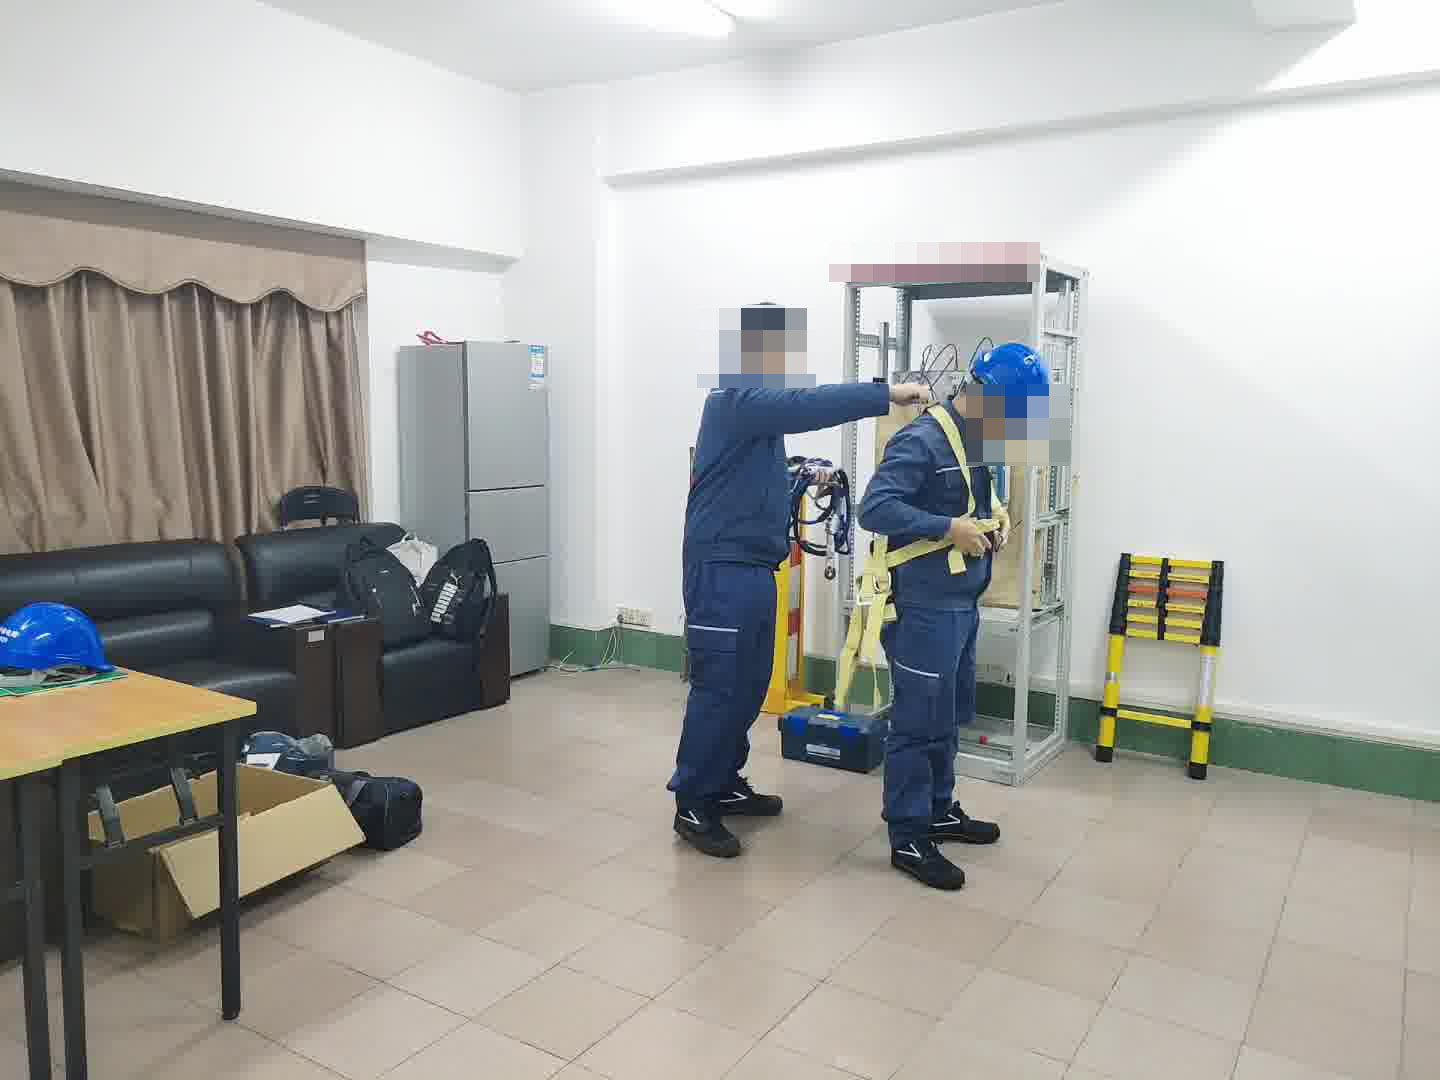downsuit: (667, 573, 781, 797), (878, 618, 981, 831)
halt: (960, 339, 1054, 444), (273, 485, 361, 530)
hand: (954, 520, 995, 561), (889, 378, 933, 409)
inear: (963, 378, 1001, 427)
noear: (737, 323, 767, 365)
person: (661, 297, 867, 850), (856, 335, 1053, 878)
safebelt: (829, 398, 1024, 724)
unhalt: (732, 300, 806, 379)
upsuit: (675, 358, 892, 560), (857, 383, 994, 595)
